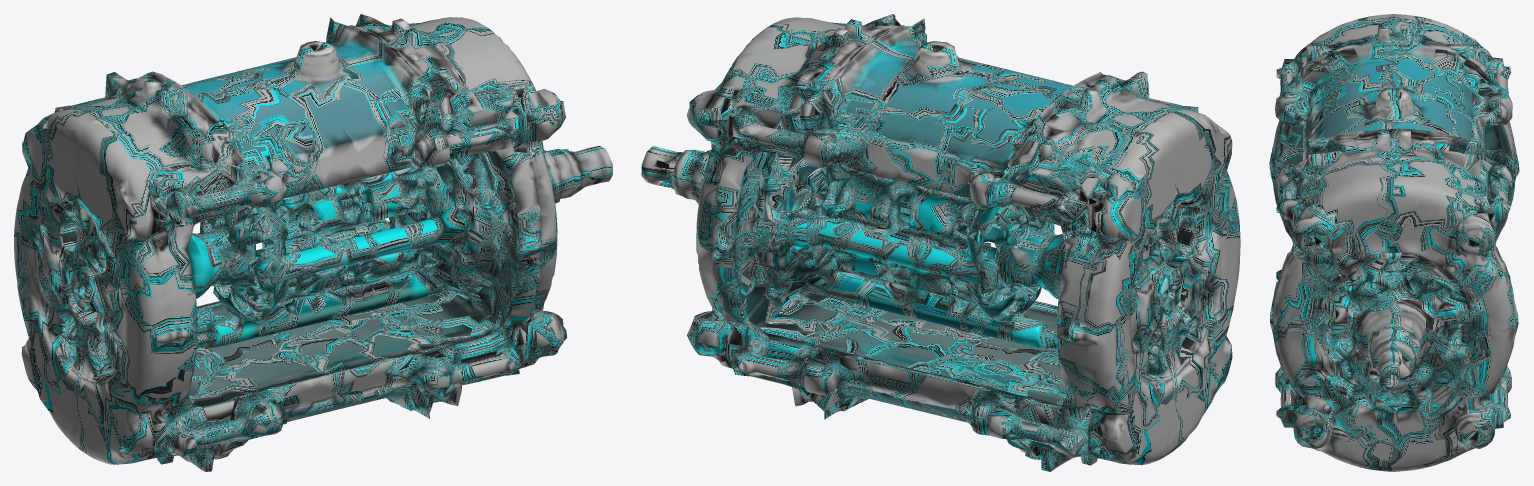
Rendered from power-generator.glb.
3 views of the same model, side by side, from view 1: azimuth 30°, elevation 25°; view 2: azimuth 150°, elevation 25°; view 3: azimuth 270°, elevation 25° (orthographic). The views are drawn at different scales.
Bounding box in the file's own units: 1.9 × 1.28 × 0.8959.
1 material, 1 textured.
